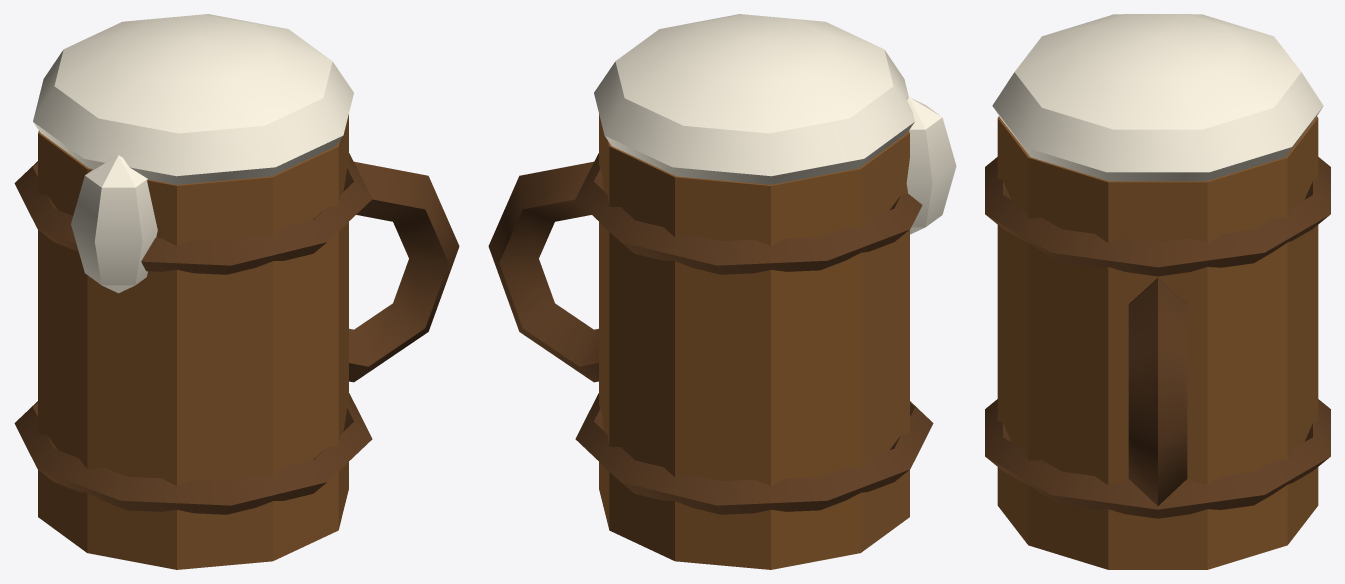
The model's file is PR_Drink_Bira.fbx.
3 renders of one model, left to right at view 1: azimuth 30°, elevation 25°; view 2: azimuth 150°, elevation 25°; view 3: azimuth 270°, elevation 25°, orthographic.
Parts seen in each view (by area): view 1: PR_Drink_Bira; view 2: PR_Drink_Bira; view 3: PR_Drink_Bira.
Boxes of the visible parts, x1,y1,x2,y2 form: PR_Drink_Bira: (14, 14, 459, 569); PR_Drink_Bira: (488, 14, 956, 569); PR_Drink_Bira: (985, 14, 1330, 569).
Bounding box in the file's own units: 0.184 × 0.1929 × 0.1293.
Materials: 1 (1 with a texture image).
